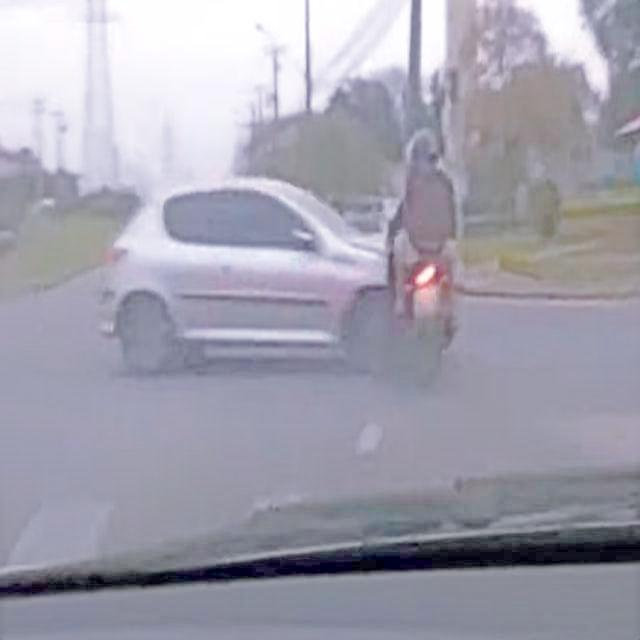Car: (103, 167, 430, 384)
Minor Accident: (92, 124, 458, 387)
Motor: (388, 127, 456, 383)
